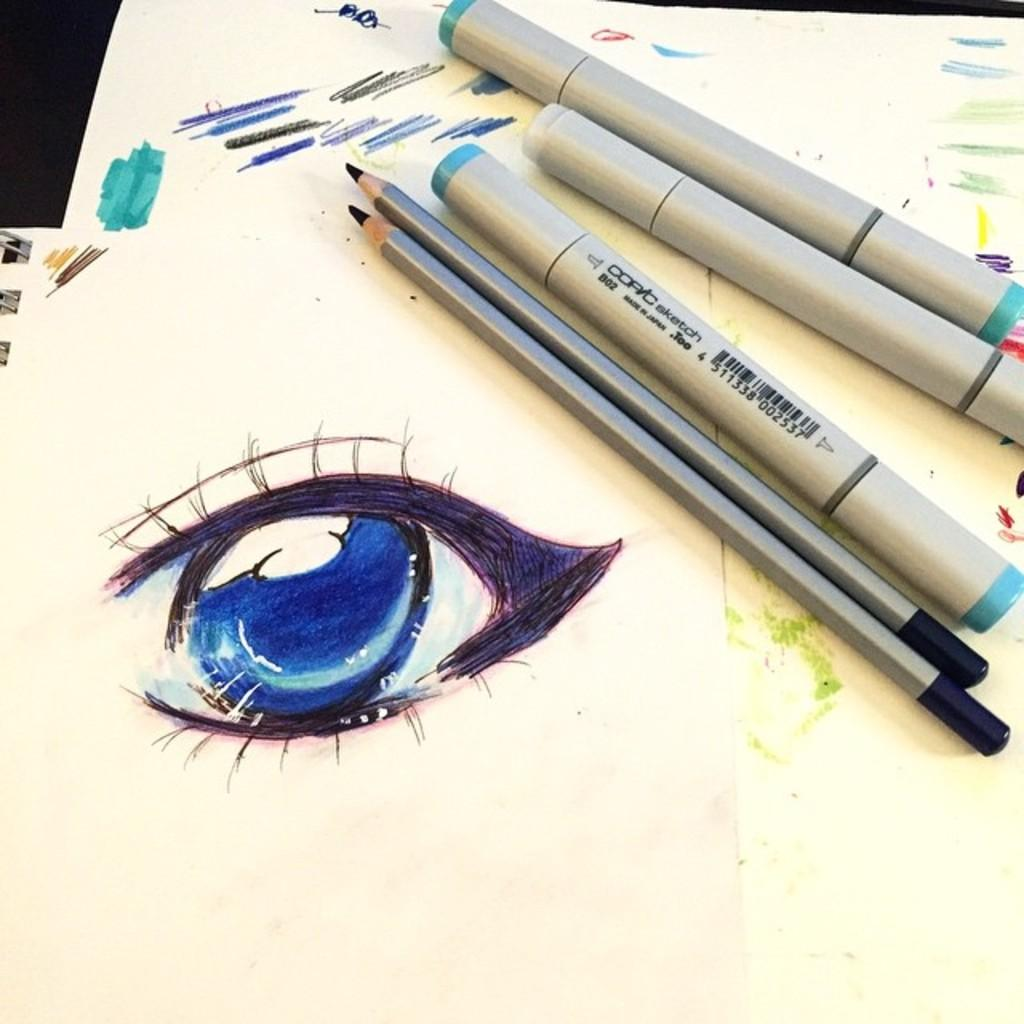pen: (435, 136, 1022, 637), (429, 0, 1022, 349), (520, 101, 1022, 450)
